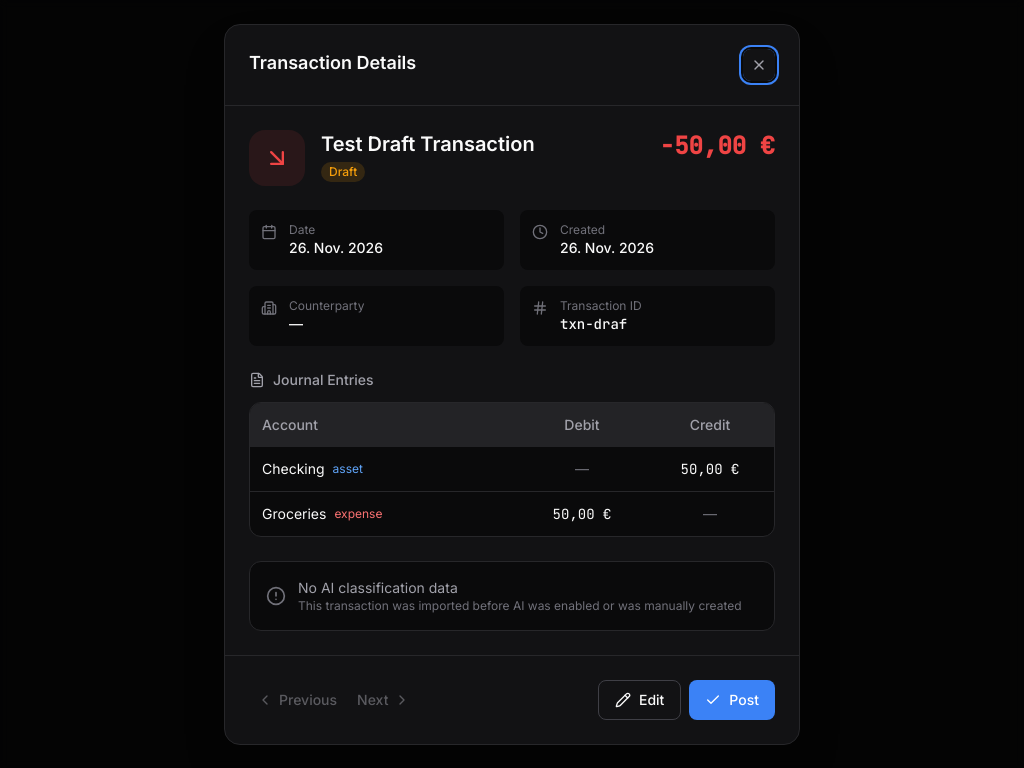
Scenario: TransactionDetailModal › Danger Zone › draft transaction deletion › shows simple delete button for draft transactions
Click the button "Edit".
click(640, 700)  # box [598,680,681,720]
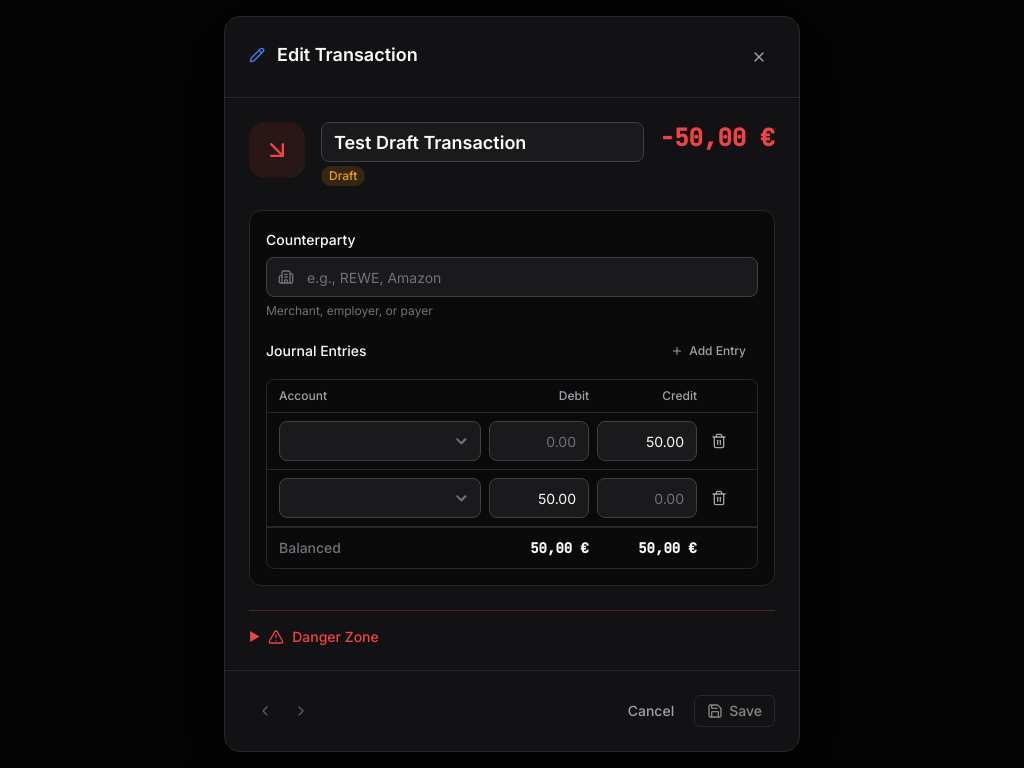
Now the heading "▶ Danger Zone" is shown
Click the heading "▶ Danger Zone".
click(314, 636)  # box [249,628,379,645]
(page scrolled)
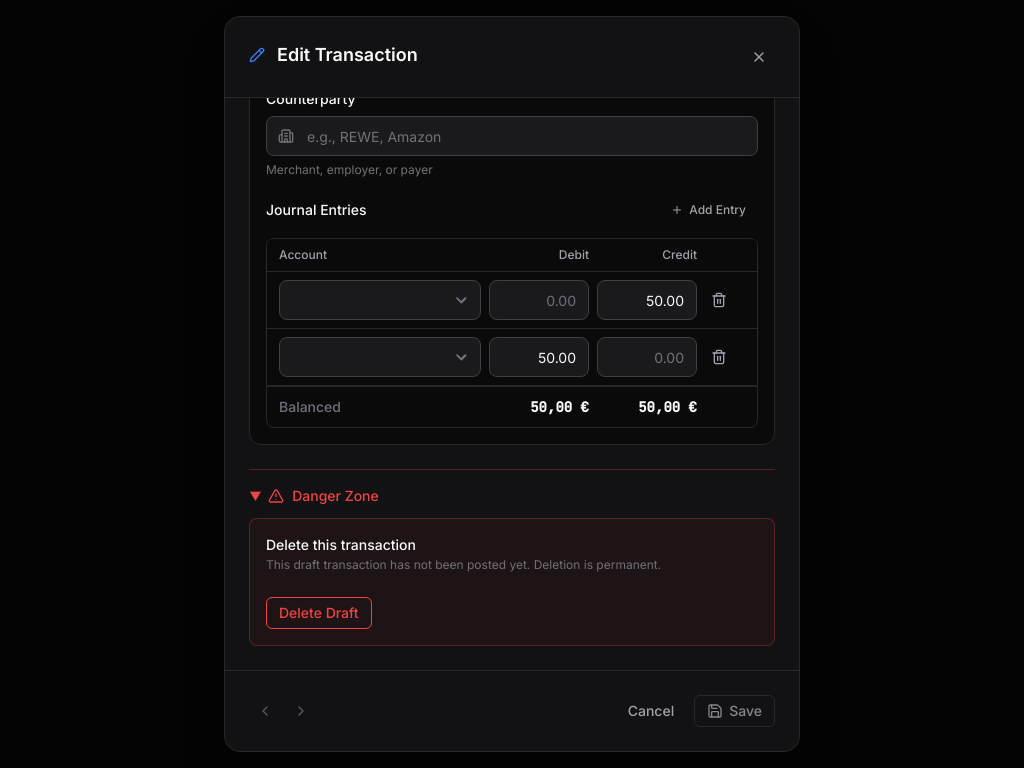
Now the button "Delete Draft" is shown, box [266,597,372,629]
